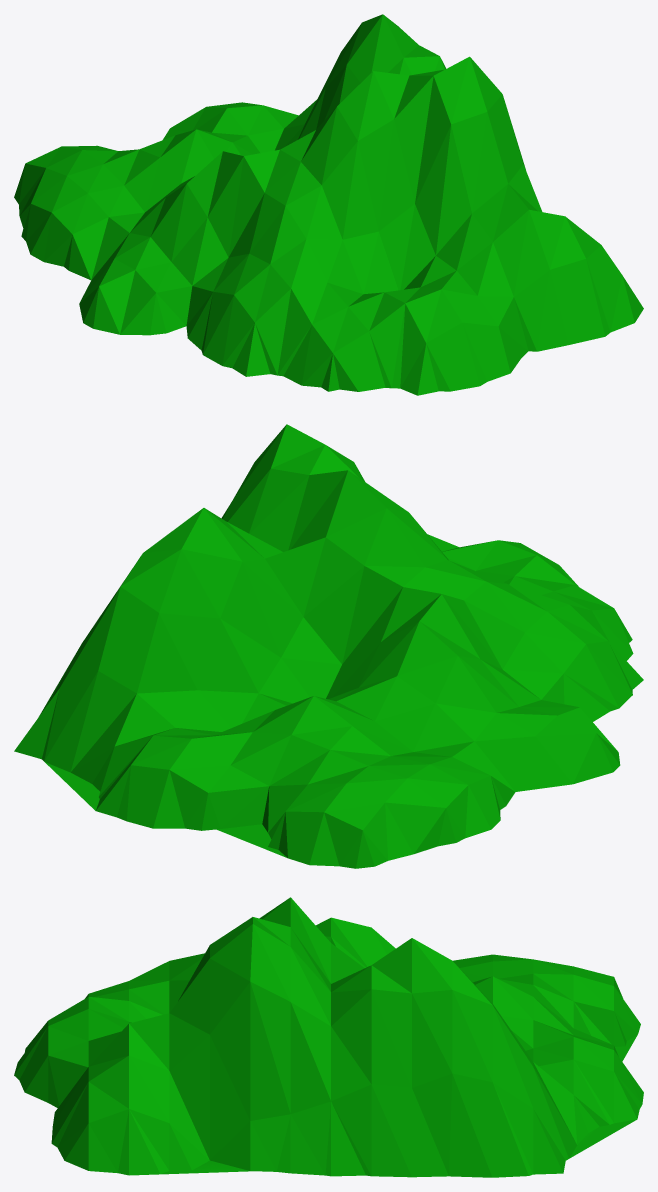
The model's file is Proto_Terrain_Mound_03.fbx.
3 views of the same model, one above another, from view 1: azimuth 30°, elevation 25°; view 2: azimuth 150°, elevation 25°; view 3: azimuth 270°, elevation 25° (orthographic). The views are drawn at different scales.
Visible parts, largest first — view 1: Proto_Terrain_Mound_03; view 2: Proto_Terrain_Mound_03; view 3: Proto_Terrain_Mound_03.
Boxes of the visible parts, box(x1,y1,x2,y2) form: Proto_Terrain_Mound_03: box(14, 14, 643, 395); Proto_Terrain_Mound_03: box(14, 424, 643, 868); Proto_Terrain_Mound_03: box(14, 897, 643, 1177).
Size of the model in its own units: 9475 by 4269 by 11876.
